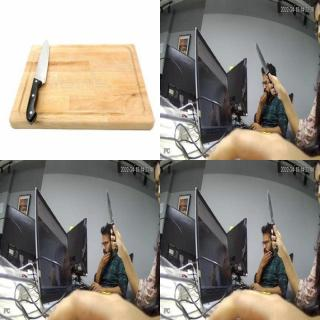knife: (36, 37, 53, 93), (254, 40, 270, 78), (105, 187, 116, 231), (266, 190, 276, 226)
